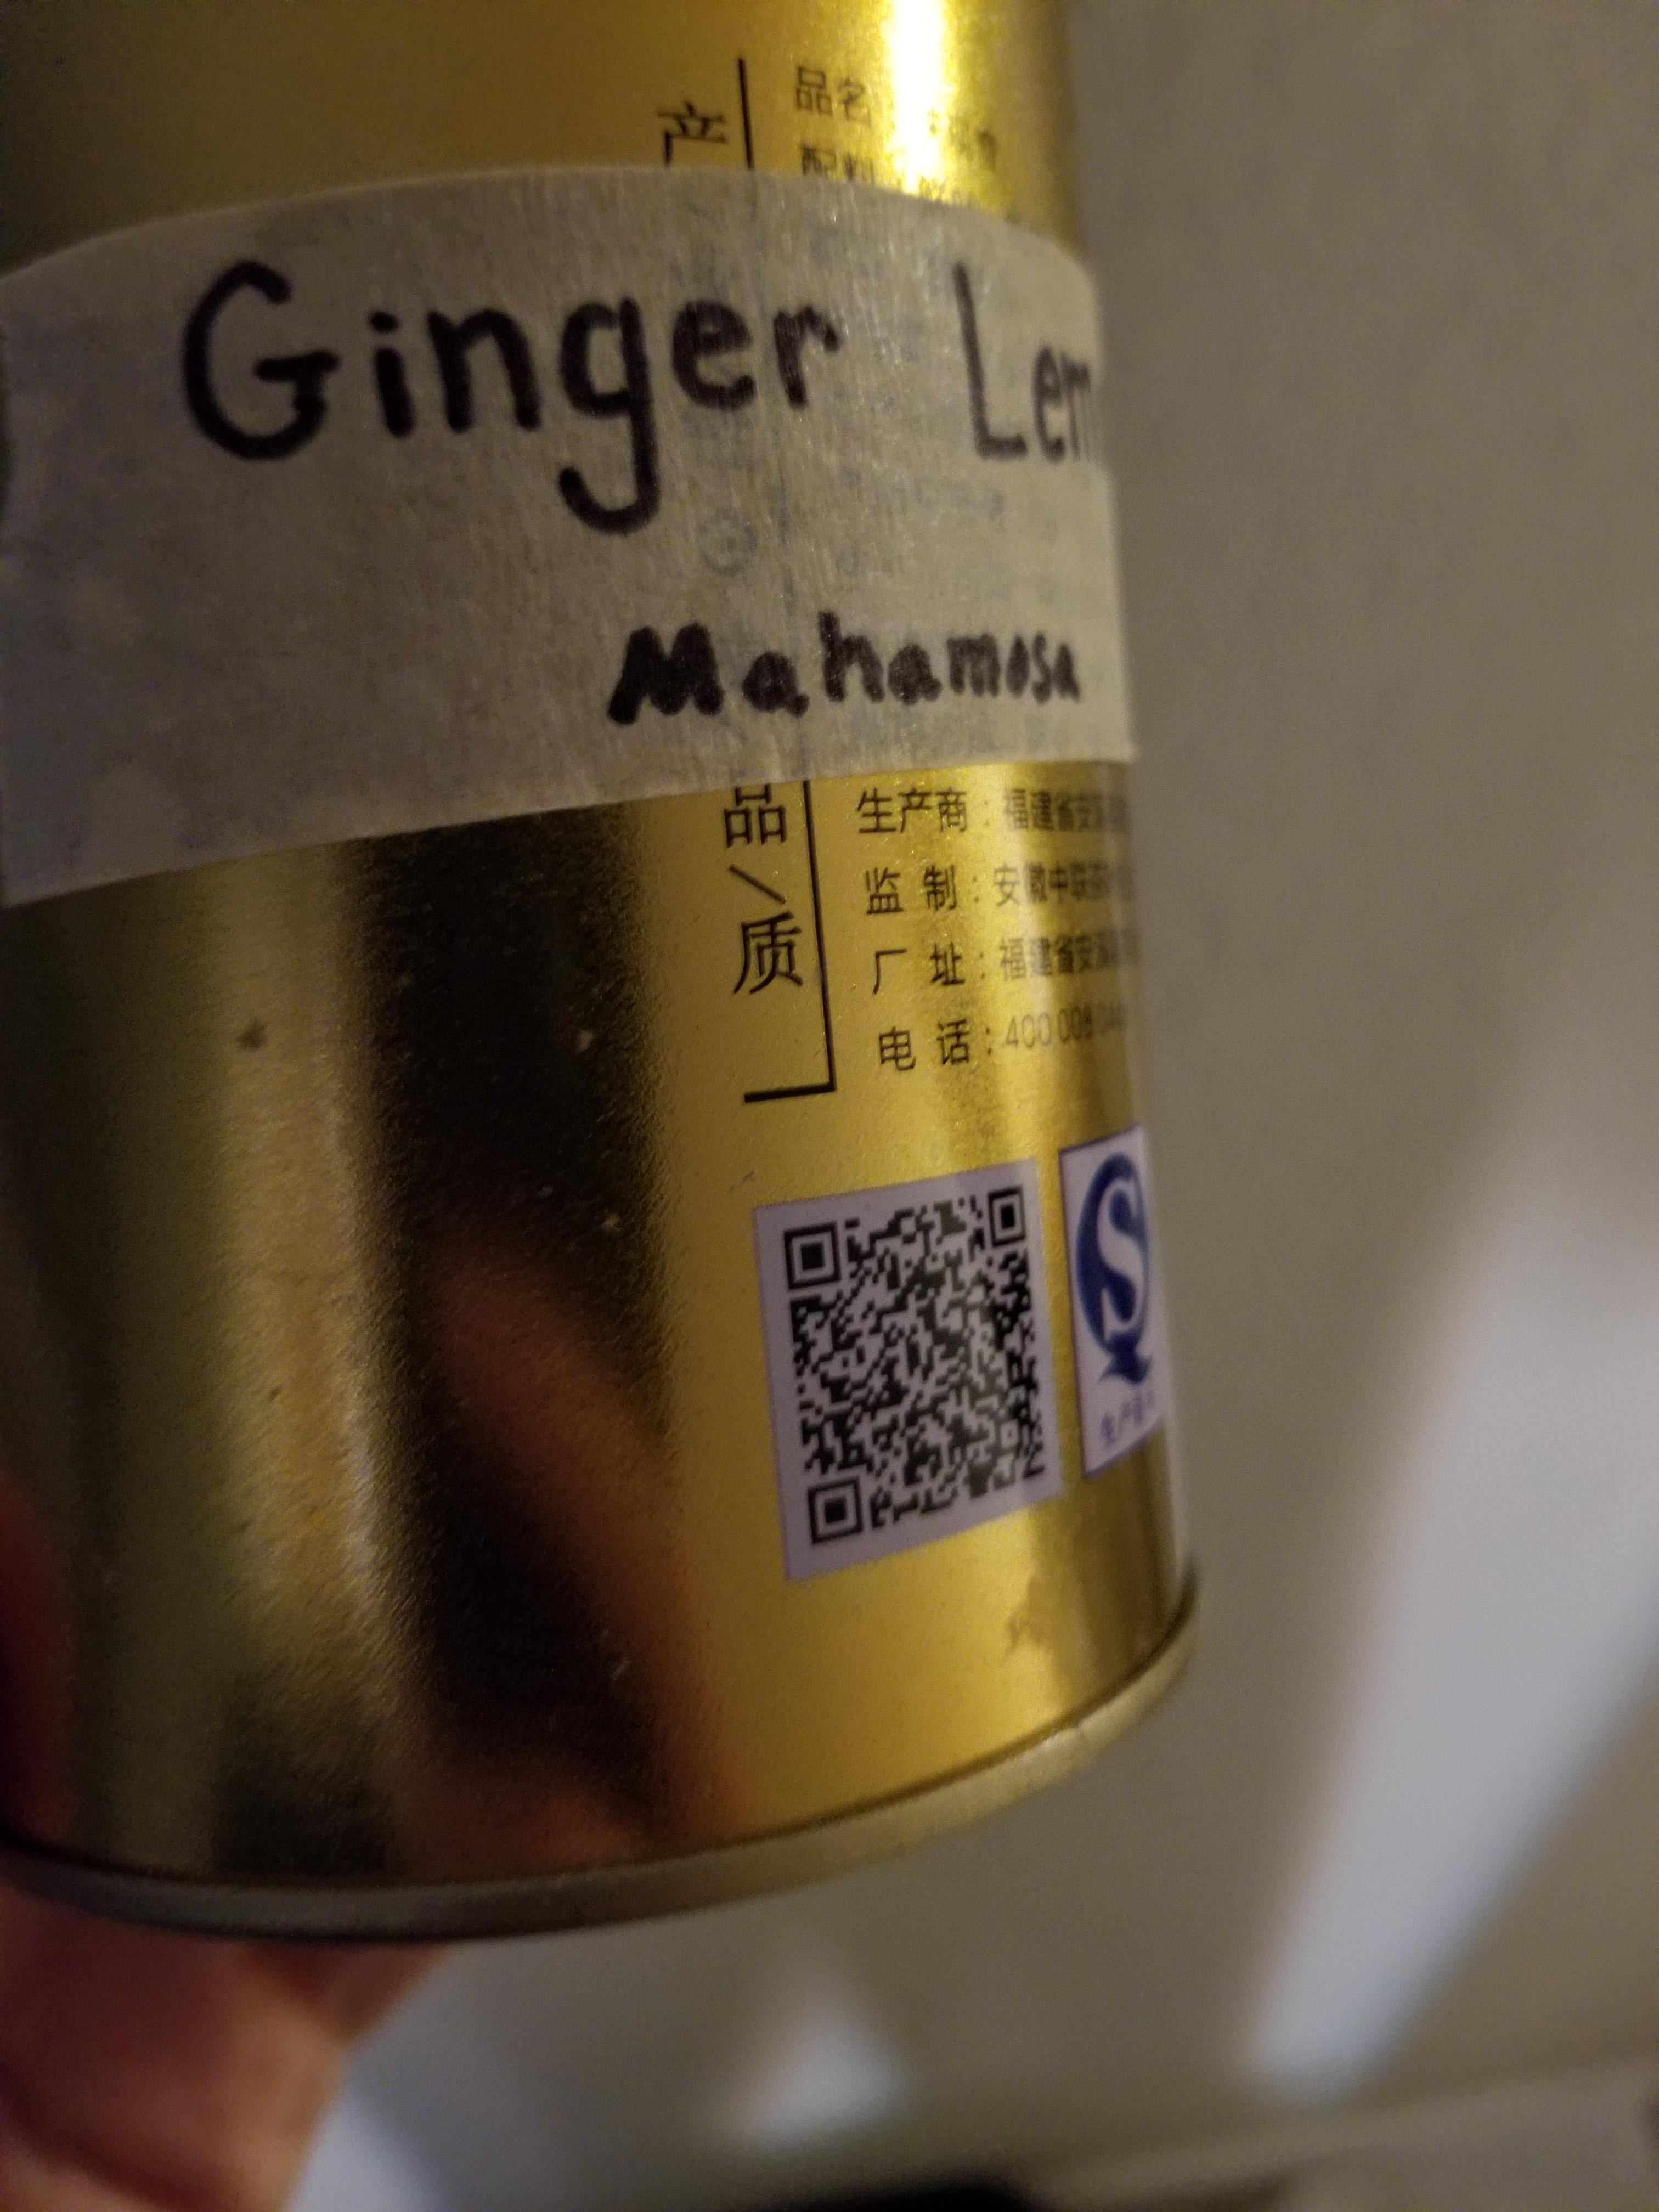QR_CODE: (741, 1122, 1075, 1568)
